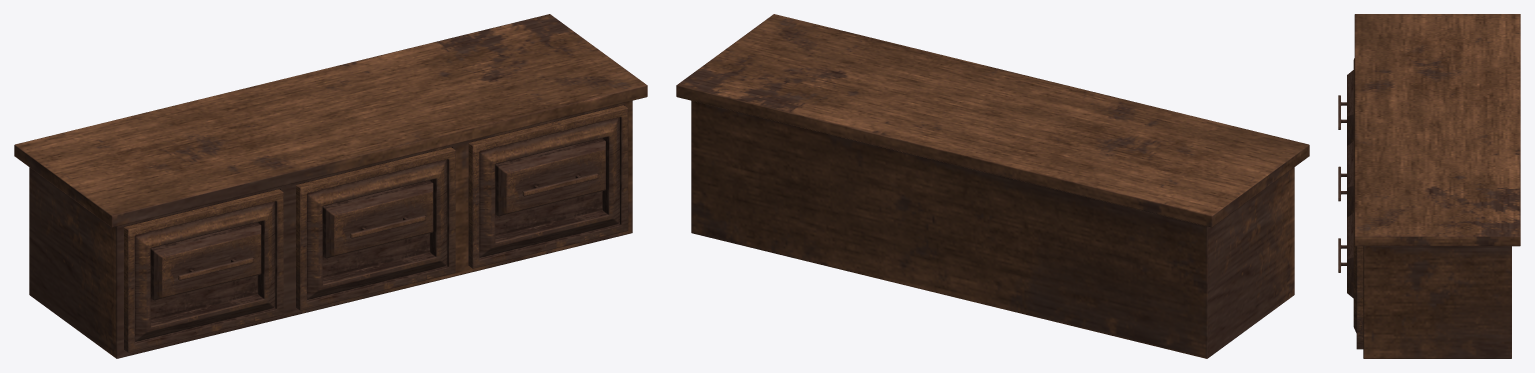
File: MesaDeMadeiraRobusto_Adm_CENA.fbx
3 renders of one model, left to right at view 1: azimuth 30°, elevation 25°; view 2: azimuth 150°, elevation 25°; view 3: azimuth 270°, elevation 25°, orthographic. The views are drawn at different scales.
Parts seen in each view (by area): view 1: Cube.004, Cube.096, Cube.006, Cube.095; view 2: Cube.004; view 3: Cube.004, Cube.096, Cube.095, Cube.006.
Part boxes in pixels (bbox=[...]): Cube.004: bbox=[14, 14, 647, 358]; Cube.096: bbox=[468, 105, 628, 268]; Cube.006: bbox=[124, 189, 283, 352]; Cube.095: bbox=[296, 147, 455, 310]; Cube.004: bbox=[676, 14, 1309, 358]; Cube.004: bbox=[1354, 14, 1520, 358]; Cube.096: bbox=[1338, 201, 1363, 349]; Cube.095: bbox=[1338, 129, 1354, 217]; Cube.006: bbox=[1338, 58, 1354, 145].
Bounding box in the file's own units: 289 × 76.95 × 100.
